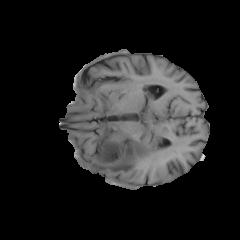glioma: (90, 132, 153, 175)
